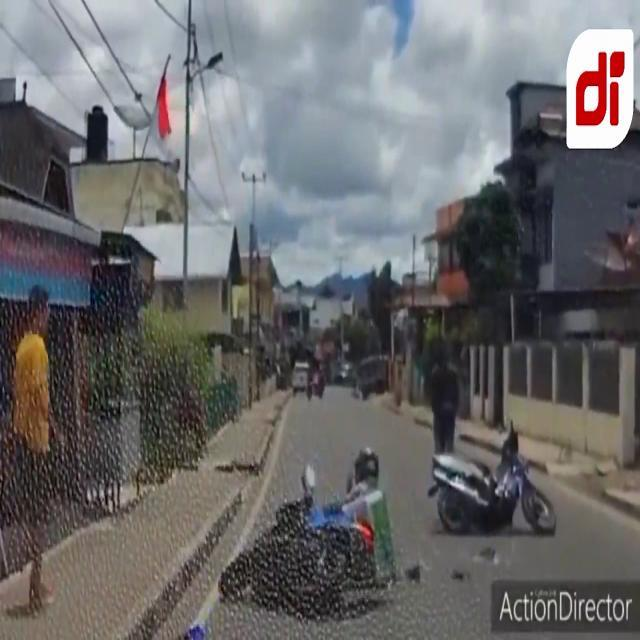multiple_accident: (373, 362, 573, 545), (190, 430, 377, 598)
